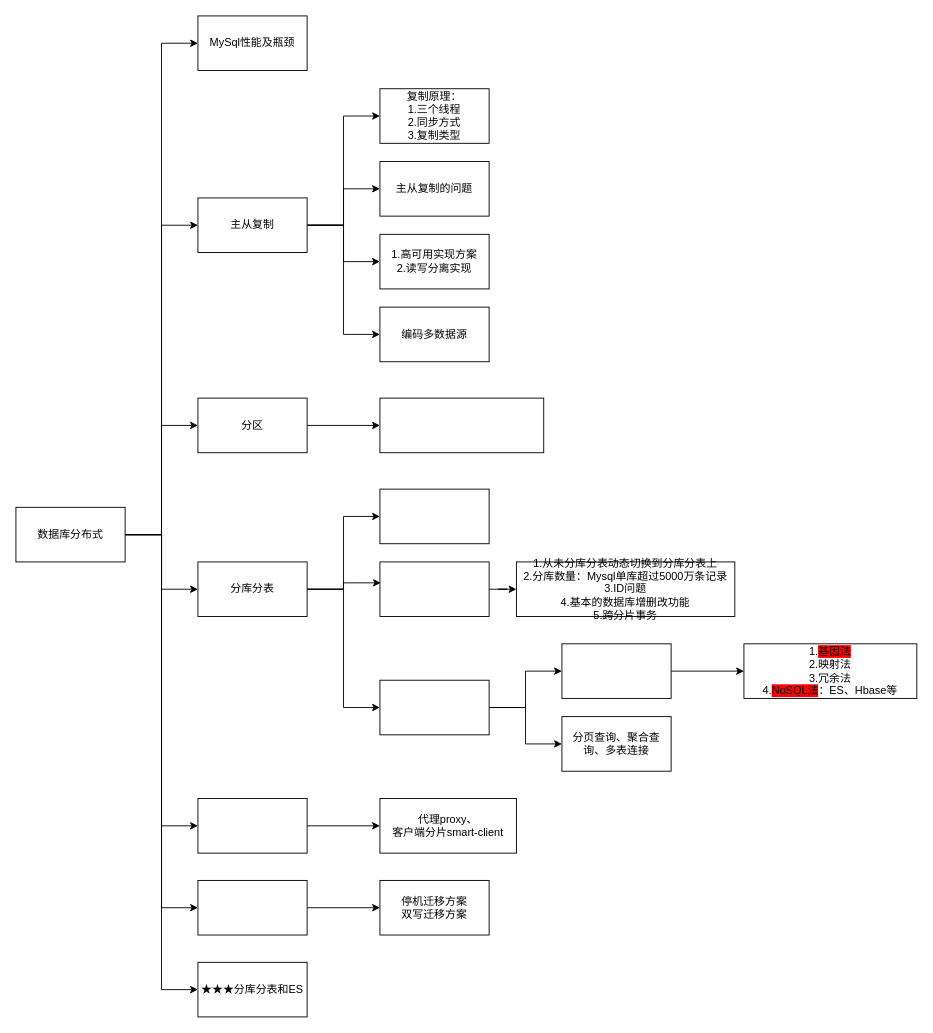
The diagram is 933 pixels wide and 1033 high, and some of its shapes have lost their labels. Each missing label, with the centre of its shape:
1.mysql数据库支持的分区类型为水平分区，并不支持垂直分区 2.已有无分区表增加分区: (x=461, y=425)
分布式实现方式: (x=252, y=825)
分库分表查询: (x=434, y=707)
分库分表问题: (x=434, y=589)
多维度查询: (x=616, y=670)
数据切分方式: (x=434, y=516)
数据迁移: (x=252, y=907)
